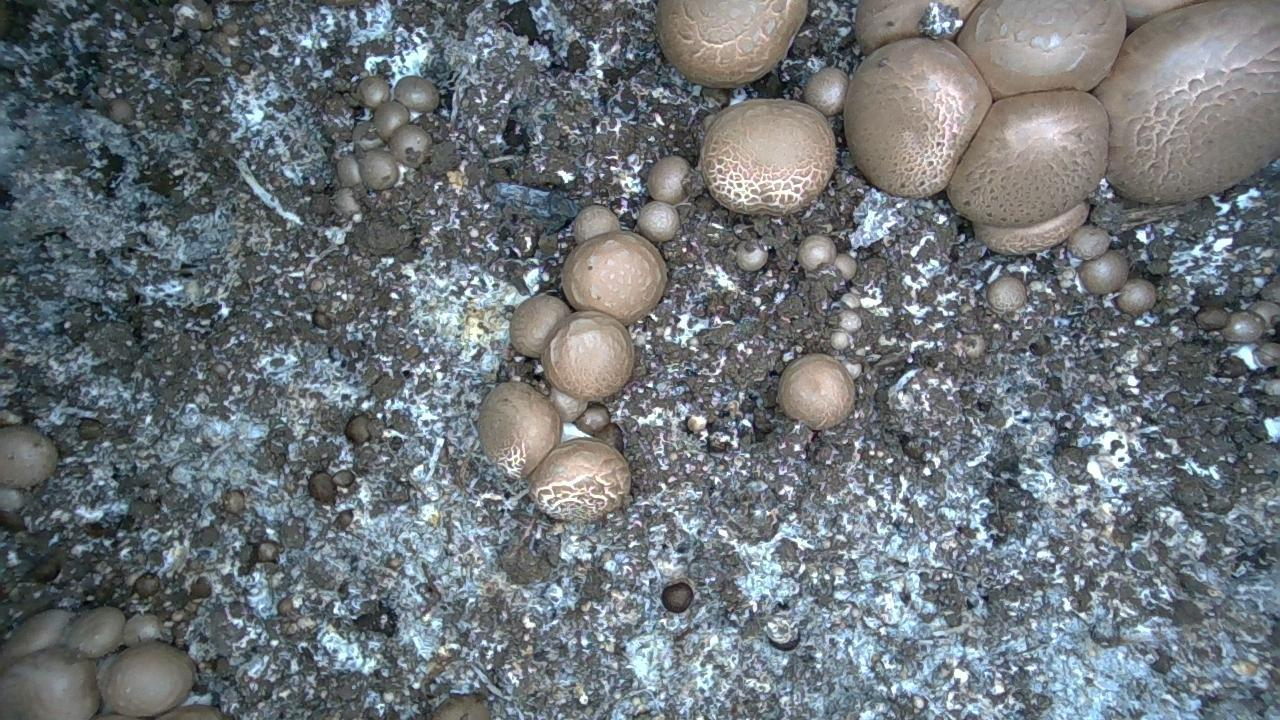BB: (1093, 0, 1279, 203), (843, 38, 991, 197), (947, 90, 1108, 227), (957, 0, 1125, 98), (699, 99, 835, 215), (657, 0, 807, 87), (561, 230, 666, 324), (529, 438, 630, 520), (541, 311, 634, 400), (477, 382, 561, 477), (0, 648, 100, 719), (100, 642, 194, 716), (855, 0, 978, 54), (973, 202, 1088, 254), (777, 354, 854, 429), (0, 609, 72, 670), (510, 294, 570, 357), (0, 425, 57, 487), (65, 607, 125, 657), (1122, 0, 1202, 33), (803, 67, 848, 116), (1080, 250, 1128, 293), (647, 156, 690, 204), (389, 124, 431, 167), (573, 205, 619, 242), (637, 201, 678, 242), (394, 76, 438, 112), (360, 149, 398, 190), (1116, 279, 1156, 315), (987, 275, 1026, 311), (373, 101, 409, 140), (432, 695, 490, 719), (1067, 226, 1109, 259), (797, 235, 836, 270), (1222, 311, 1264, 342), (123, 614, 162, 645), (356, 76, 389, 109), (158, 704, 225, 719), (661, 582, 693, 612), (735, 241, 767, 271), (1195, 306, 1228, 330), (336, 155, 360, 187), (1254, 342, 1279, 367), (256, 540, 280, 562)
